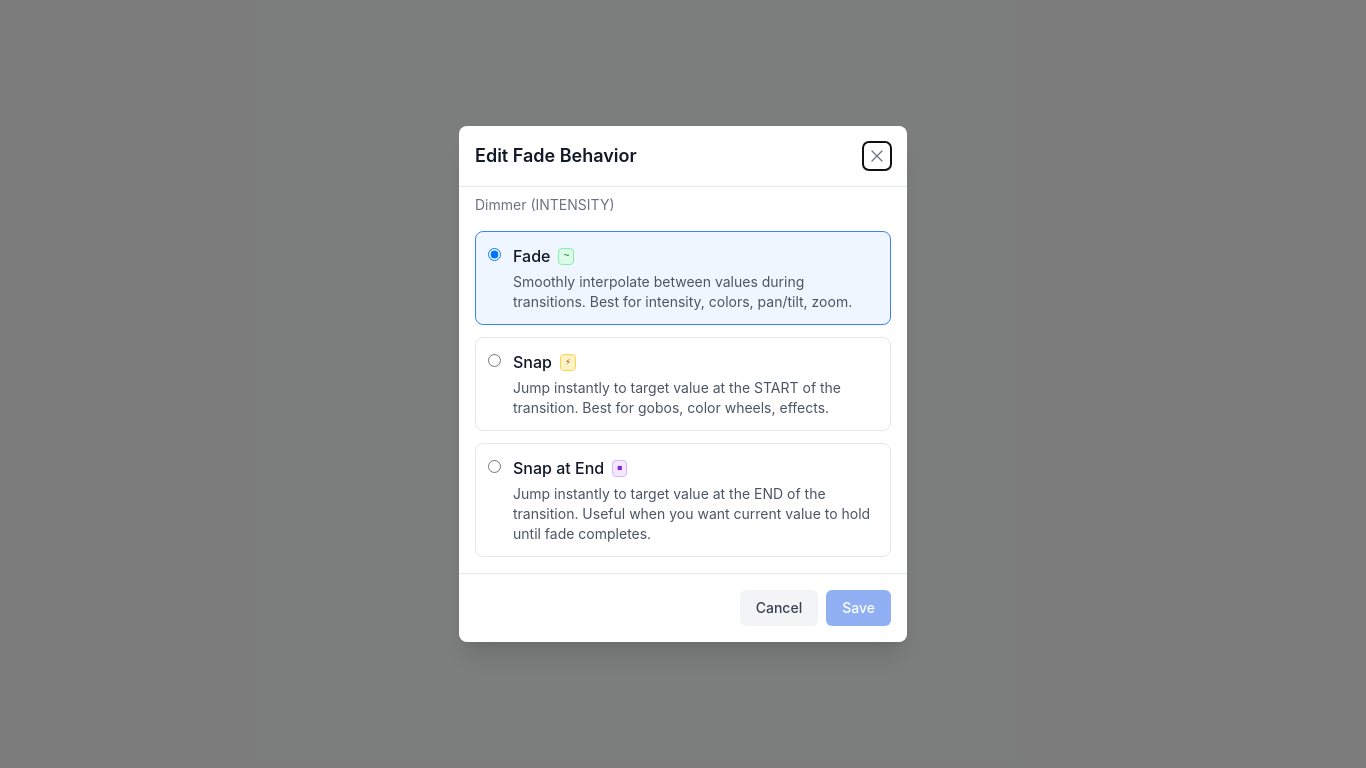
Test: FadeBehaviorEditModal › save functionality › enables save button when behavior is changed
The width and height of the screenshot is (1366, 768).
Select SNAP (different from current FADE)
What coordinates should you click on to do the following:
click the radio button showing "SNAP"
I would click on:
 (494, 360)
Its box is [488, 354, 501, 367].
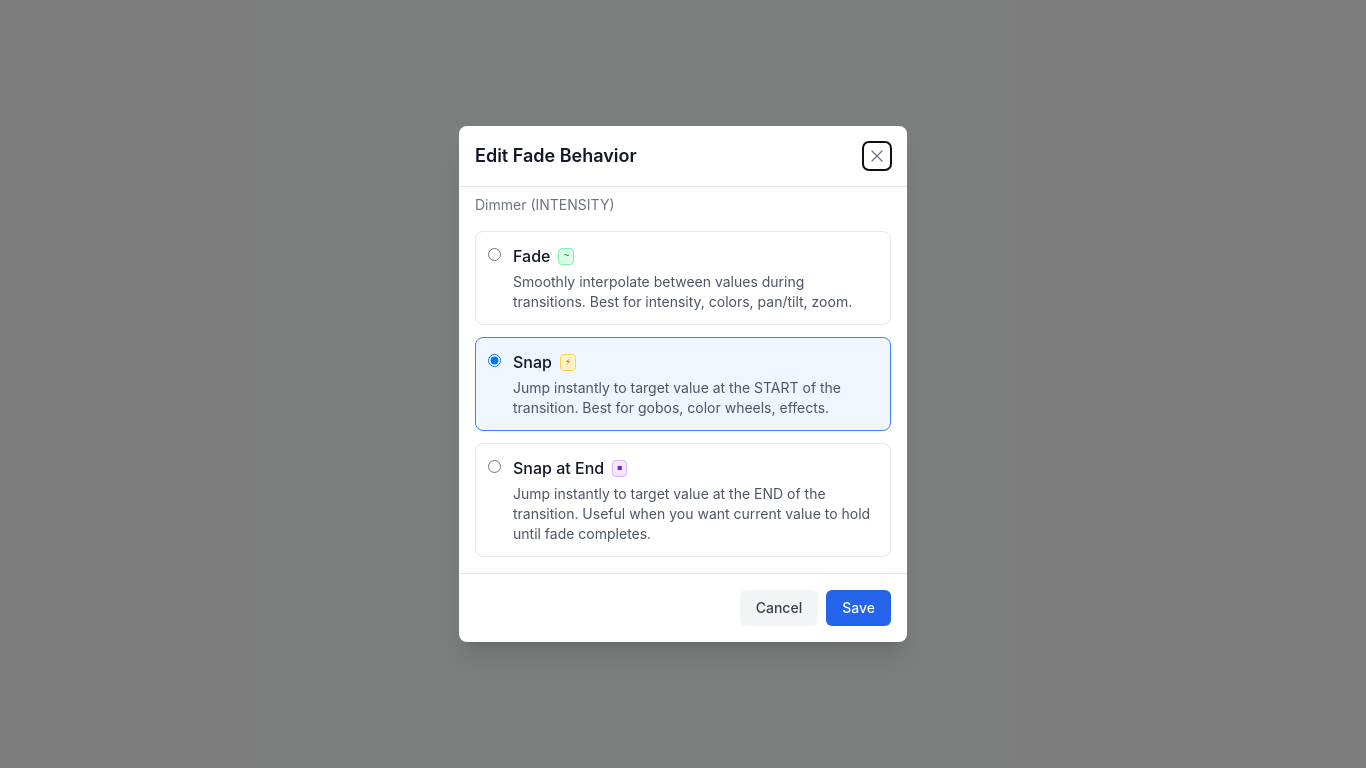
expect the button "Save" is enabled: met, box [826, 590, 891, 626]
